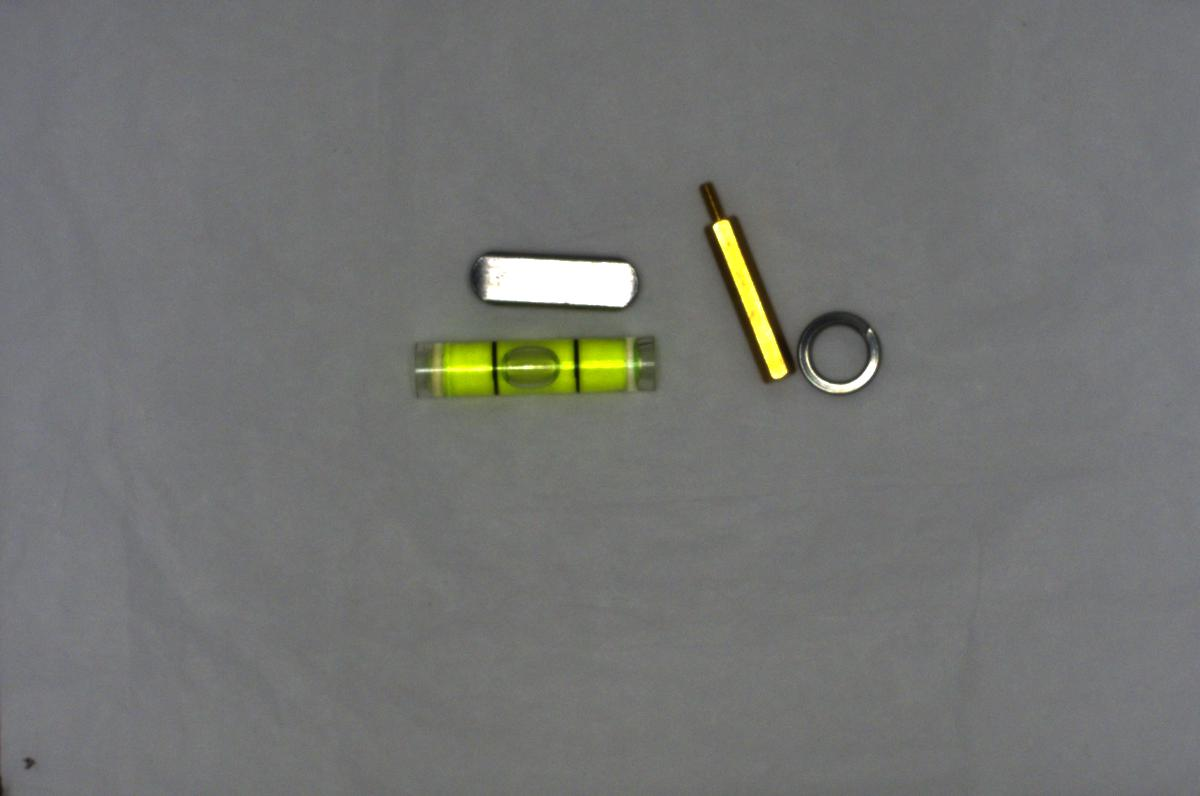Hexagon pillar: (691, 173, 795, 390)
Horizontal bubble: (402, 328, 662, 402)
Keybar: (455, 242, 653, 319)
Spring washer: (795, 307, 888, 396)
